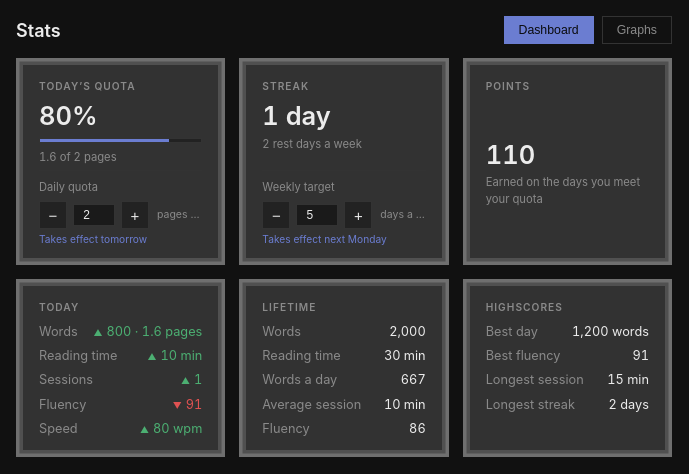
Test case: Stats screen — Graphs tab, timeframe gating › enables Week on three days and explains what Month and Total still need
Click the button "Graphs".
click(637, 30)  # box [602, 16, 672, 44]
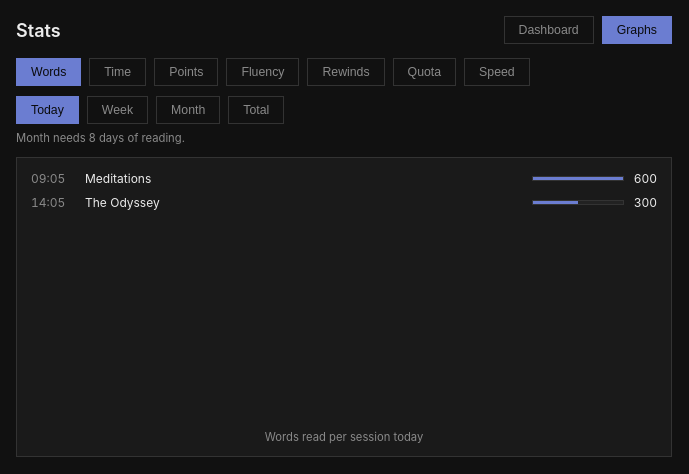
Result: the button "Month" is disabled at [156, 96, 220, 124]
Result: the button "Total" is disabled at [228, 96, 284, 124]
Result: the text with class "stats-graphs-hint" reads "Month needs 8 days of reading." at [16, 131, 185, 145]
